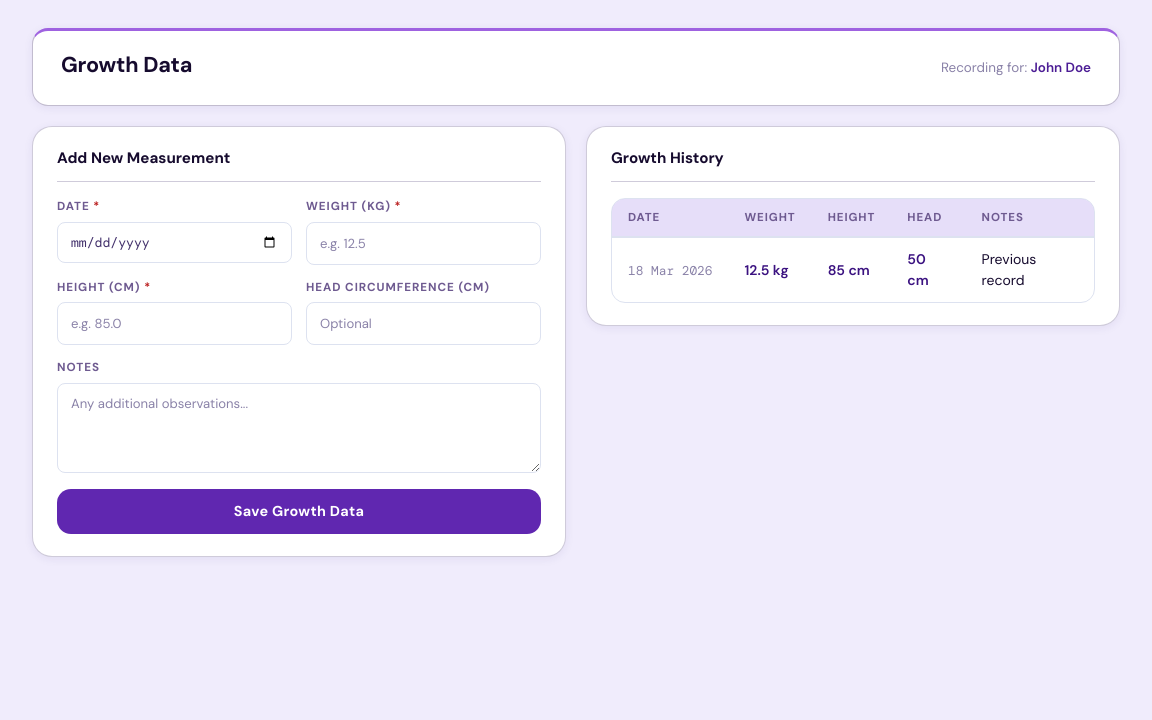
Test: submits growth form and adds new record to history
The image size is (1152, 720).
Type "2026-03-19" into the date field labelled "Date *" at (174, 243), box [57, 222, 292, 263]
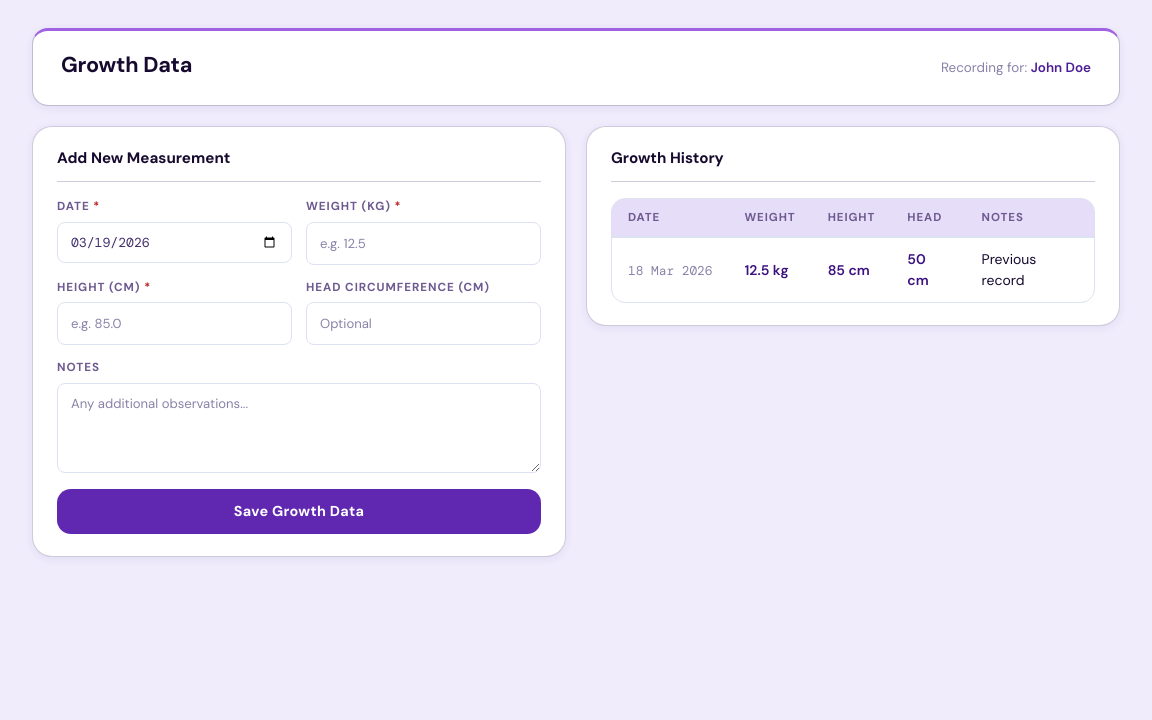
Type "13.2" into the number field labelled "Weight (kg) *" at (424, 243), box [306, 222, 541, 265]
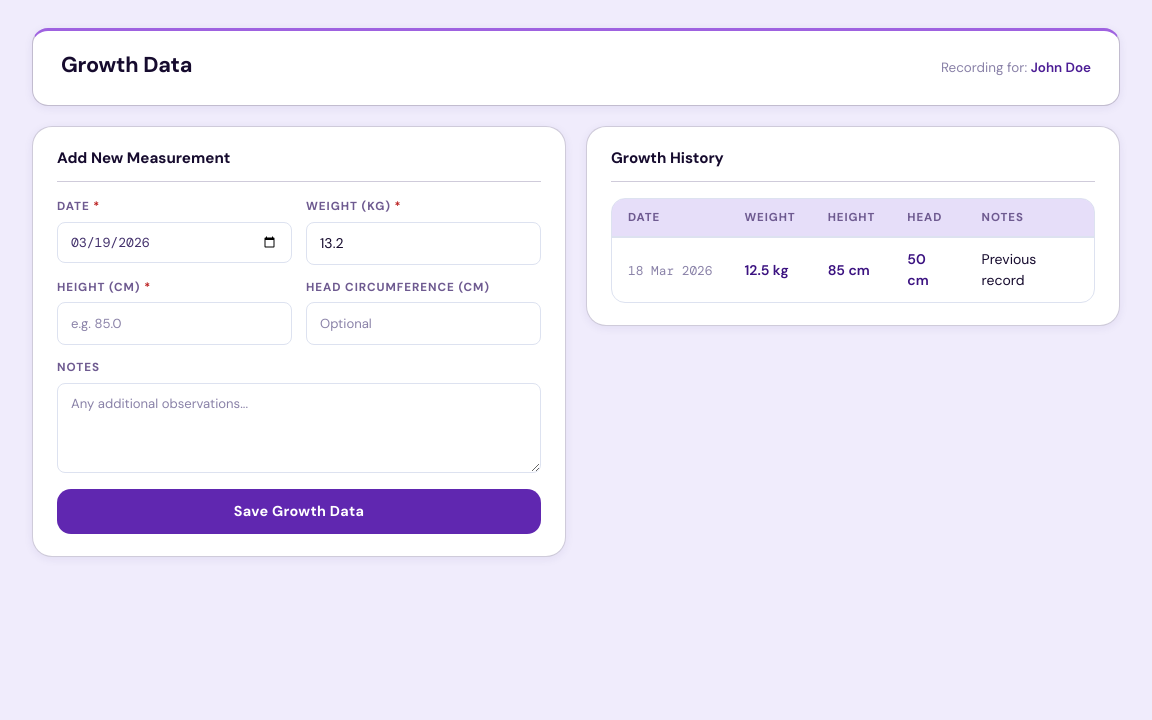
Type "86.0" into the number field labelled "Height (cm) *" at (174, 324), box [57, 302, 292, 345]
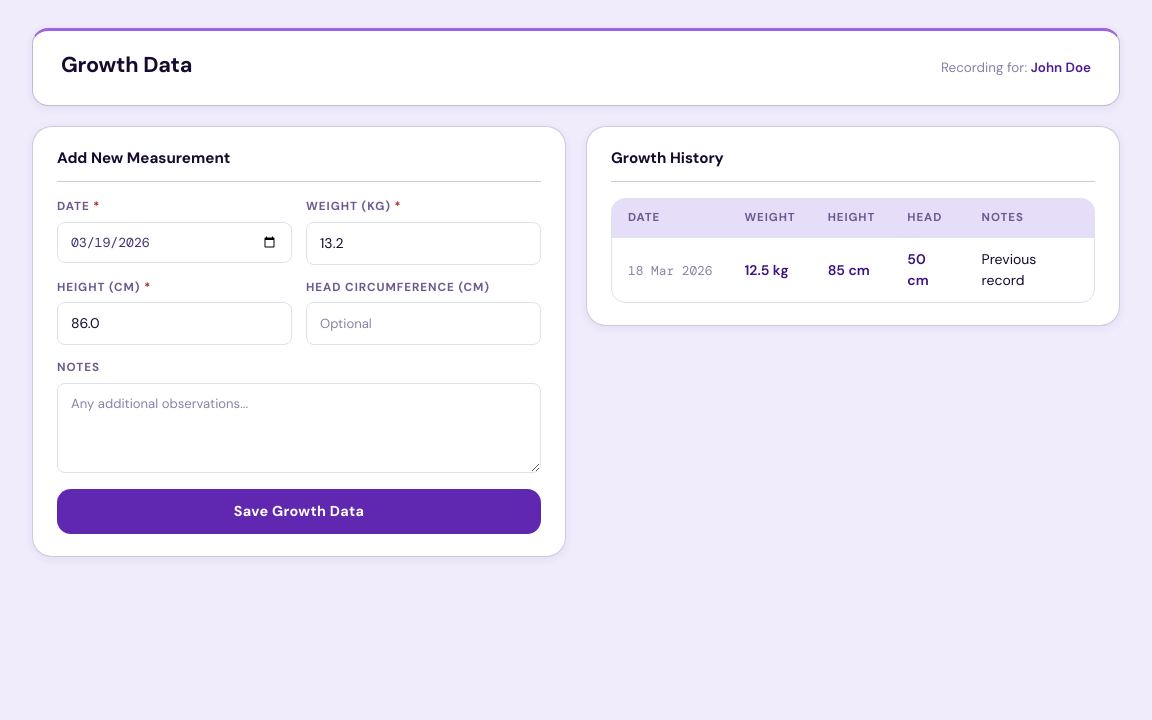
Type "51.0" into the number field labelled "Head Circumference (cm)" at (424, 324), box [306, 302, 541, 345]
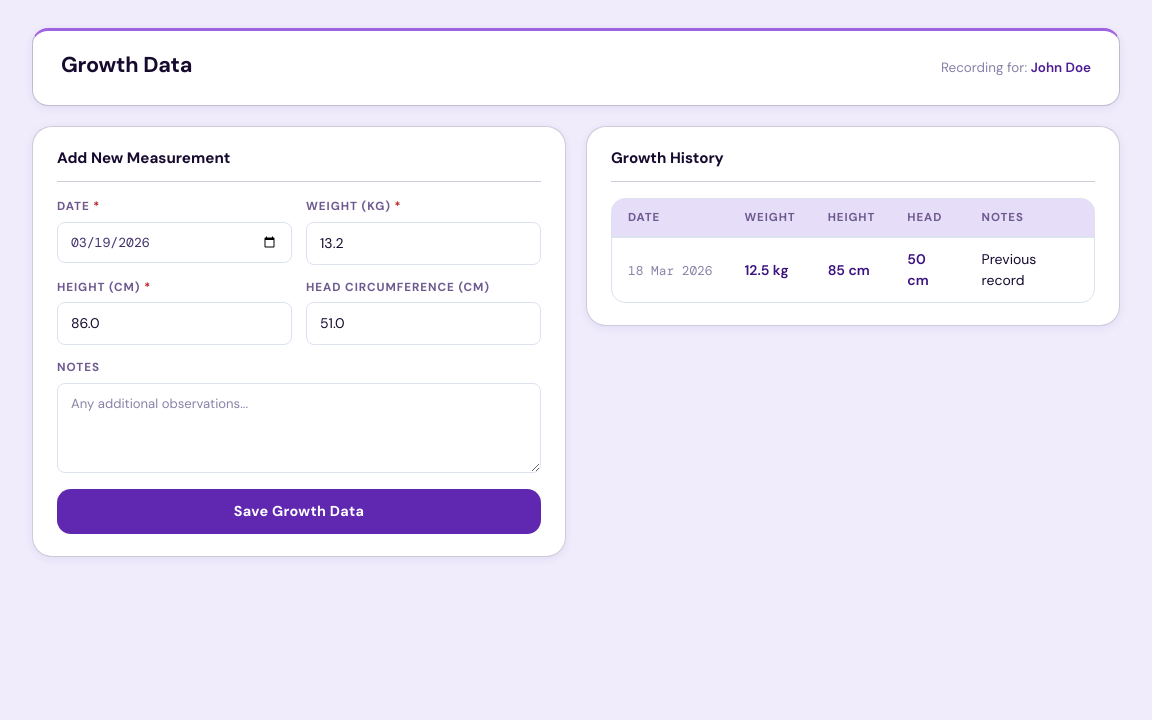
Type "New growth note" into the text box labelled "Notes" at (299, 428), box [57, 383, 541, 473]
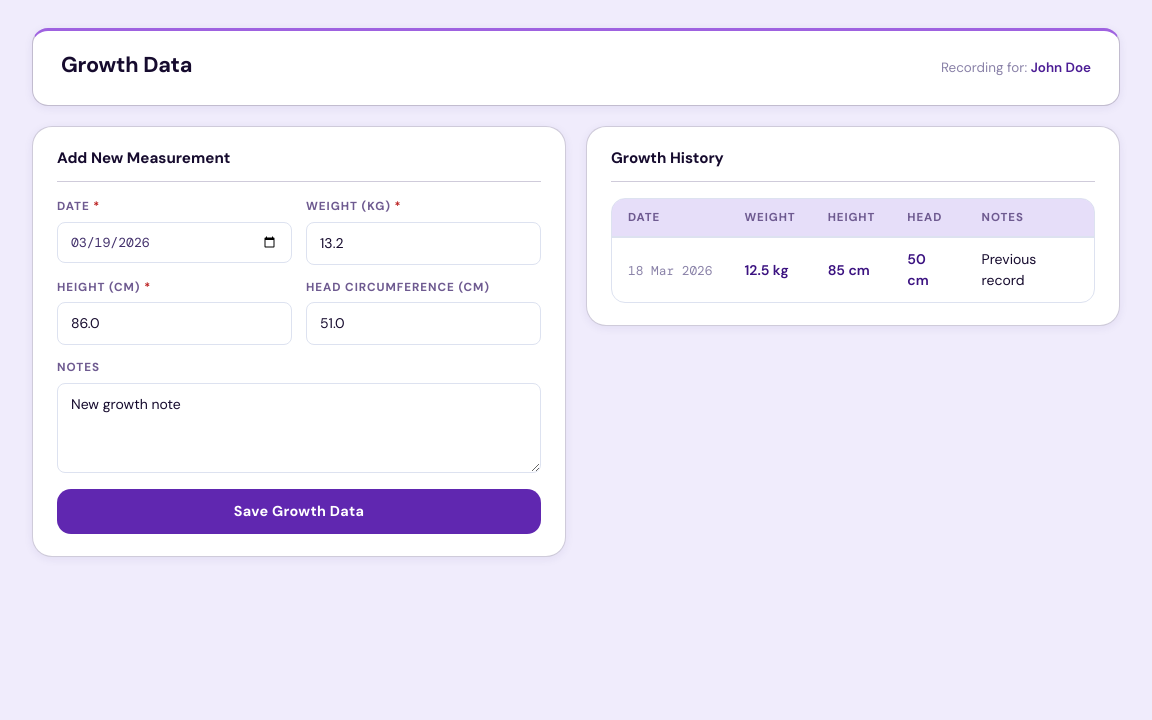
Click the button "Save Growth Data" at (299, 512), box [57, 489, 541, 534]
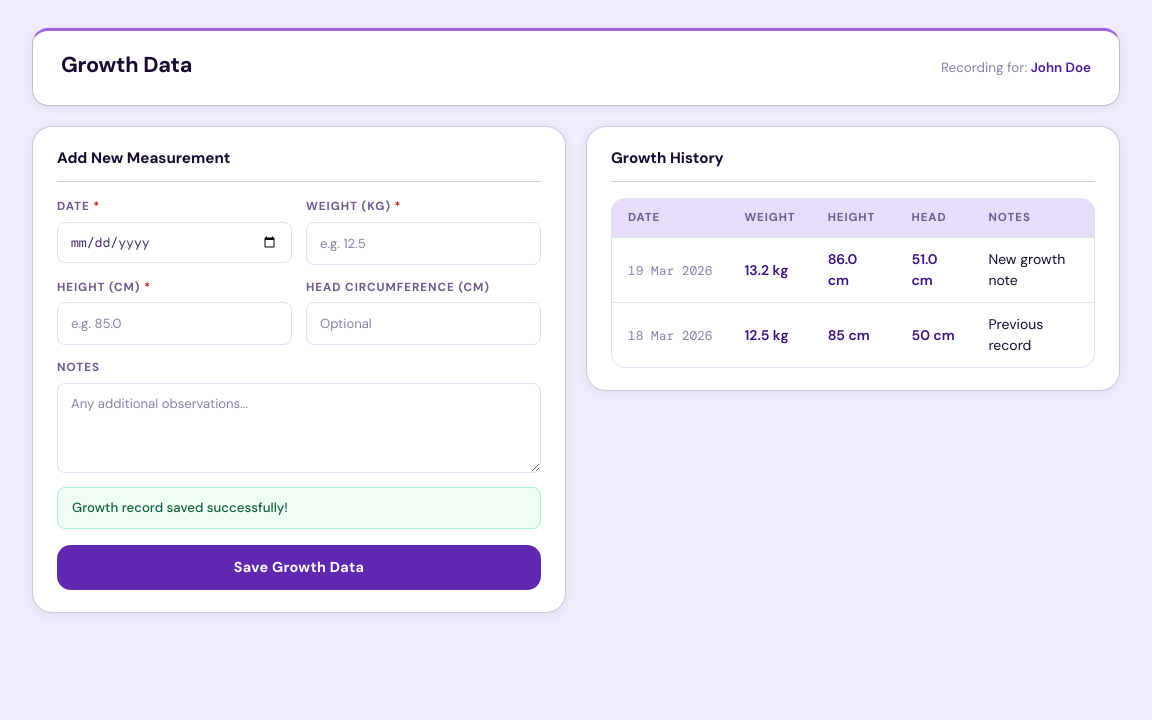
Check: the text "Growth record saved successfully!" is shown, box [57, 487, 541, 529]
Check: the text "13.2 kg" is shown, box [728, 237, 812, 303]
Check: the text "86.0 cm" is shown, box [812, 237, 896, 303]
